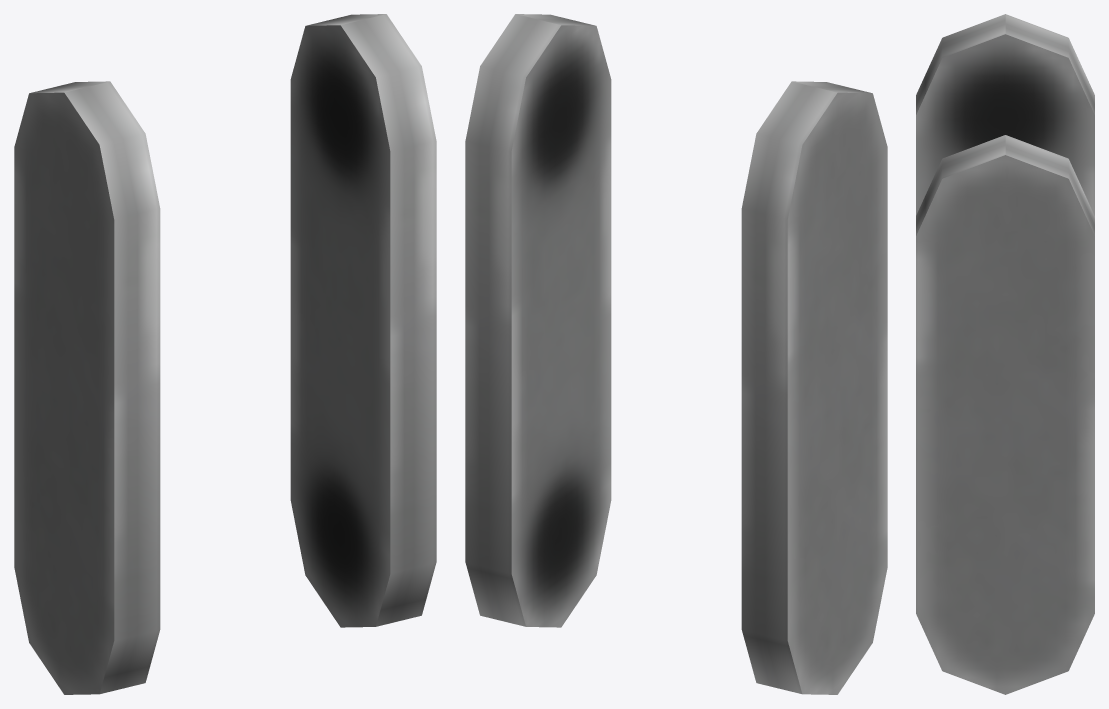
File: Ara_Antenna_1_Arm.obj
3 renders of one model, left to right at view 1: azimuth 30°, elevation 25°; view 2: azimuth 150°, elevation 25°; view 3: azimuth 270°, elevation 25°, orthographic. The views are drawn at different scales.
Parts seen in each view (by area): view 1: Ara_Antenna_1_Arm; view 2: Ara_Antenna_1_Arm; view 3: Ara_Antenna_1_Arm.
Part boxes in pixels (x1=…): Ara_Antenna_1_Arm: x1=14, y1=14, x2=436, y2=694; Ara_Antenna_1_Arm: x1=465, y1=14, x2=887, y2=694; Ara_Antenna_1_Arm: x1=916, y1=14, x2=1094, y2=694.
Bounding box in the file's own units: 0.175 × 0.3125 × 0.0938.
